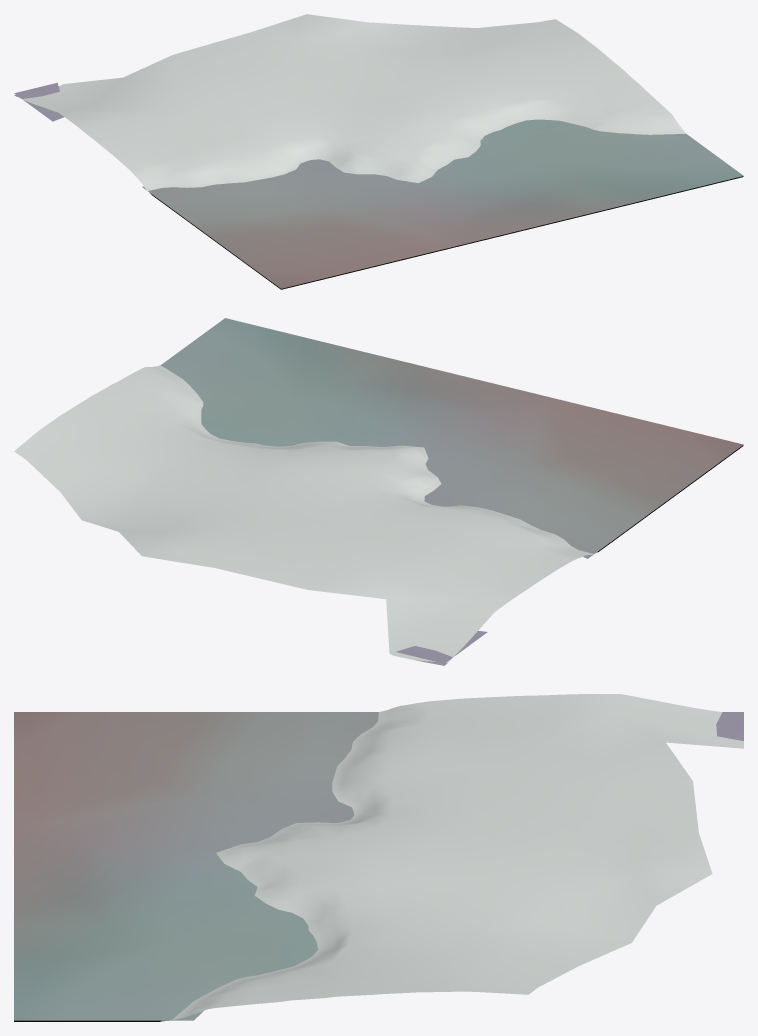
3 renders of one model, top to bottom at view 1: azimuth 30°, elevation 25°; view 2: azimuth 150°, elevation 25°; view 3: azimuth 270°, elevation 25°, orthographic. The views are drawn at different scales.
Visible parts, largest first — view 1: G:\FFXIV-MapTools\exports\r2f1\bg\ex1\01_roc_r2\fld\r2f1\bgp (×3); view 2: G:\FFXIV-MapTools\exports\r2f1\bg\ex1\01_roc_r2\fld\r2f1\bgp (×2); view 3: G:\FFXIV-MapTools\exports\r2f1\bg\ex1\01_roc_r2\fld\r2f1\bgp (×2).
Boxes of the visible parts, x1,y1,x2,y2 form: G:\FFXIV-MapTools\exports\r2f1\bg\ex1\01_roc_r2\fld\r2f1\bgp (×3): (14, 14, 743, 289); G:\FFXIV-MapTools\exports\r2f1\bg\ex1\01_roc_r2\fld\r2f1\bgp (×2): (14, 318, 743, 663); G:\FFXIV-MapTools\exports\r2f1\bg\ex1\01_roc_r2\fld\r2f1\bgp (×2): (14, 694, 743, 1020).
Bounding box in the file's own units: 128 × 6.62 × 128.
